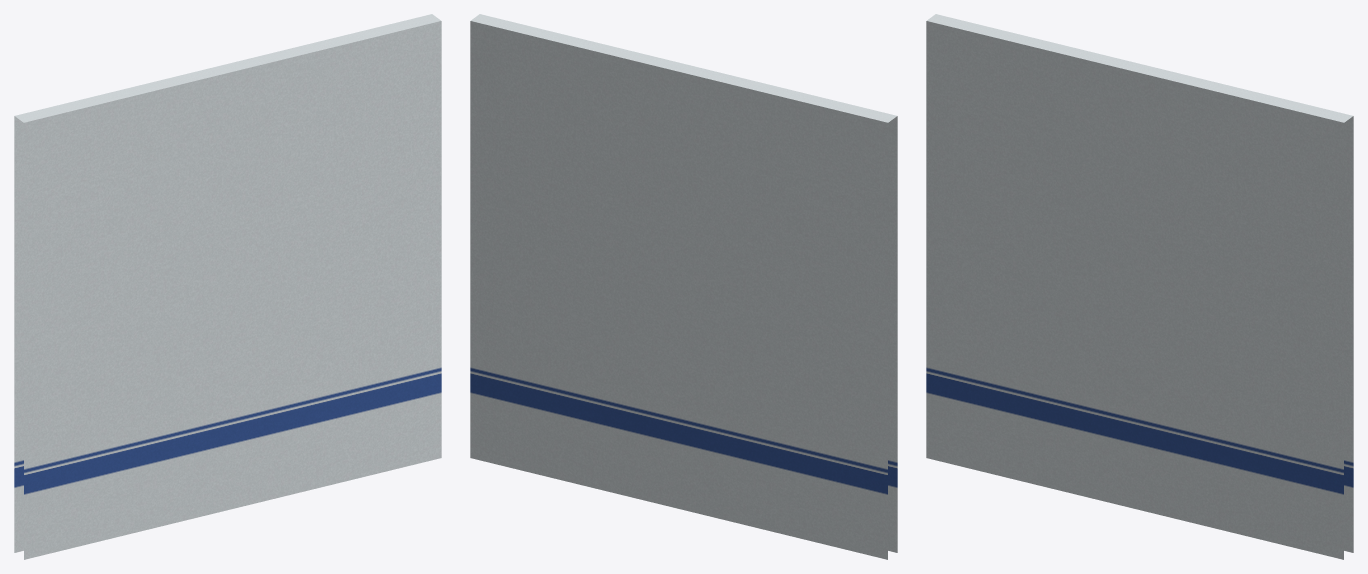
File: PlainWall.fbx
3 views of the same model, side by side, from view 1: azimuth 30°, elevation 25°; view 2: azimuth 150°, elevation 25°; view 3: azimuth 330°, elevation 25° (orthographic).
Parts seen in each view (by area): view 1: pCube2; view 2: pCube2; view 3: pCube2.
Boxes of the visible parts, x1,y1,x2,y2 form: pCube2: [14, 14, 441, 559]; pCube2: [470, 14, 897, 559]; pCube2: [926, 14, 1353, 559].
Size of the model in its own units: 256 by 256 by 10.
